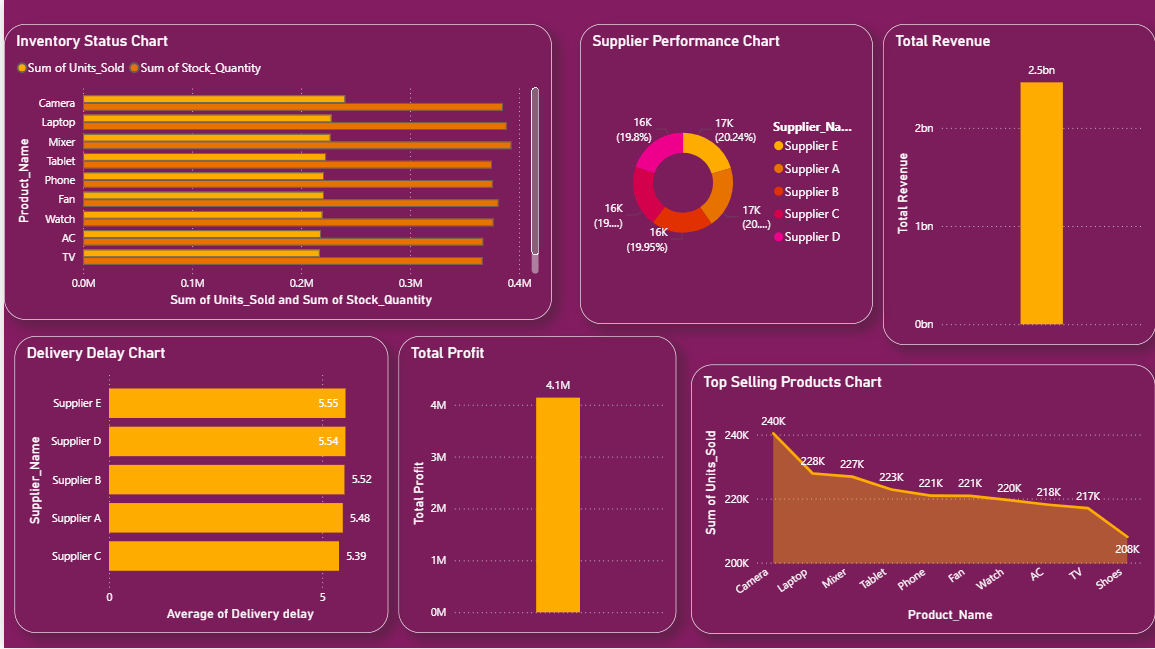

The dashboard page shown, as its layout file describes it:
{"tool":"powerbi","page":{"name":"Page 1","canvas":[1280,720],"ordinal":0},"visuals":[{"type":"clusteredColumnChart","title":"Total Revenue","fields":{"Y":["Sum(Table 6 (supply_chain_inventory_dataset_).Revenue)"]},"box":[976.5,87.7,290.5,296.3],"z":0},{"type":"columnChart","title":"Total Profit","fields":{"Y":["Sum(Table 6 (supply_chain_inventory_dataset_).Profit)"]},"box":[438.6,405.5,309.2,289.1],"z":1000},{"type":"clusteredBarChart","title":"Inventory Status Chart","fields":{"Category":["Table 6 (supply_chain_inventory_dataset_).Product_Name"],"Y":["Sum(Table 6 (supply_chain_inventory_dataset_).Units_Sold)","Sum(Table 6 (supply_chain_inventory_dataset_).Stock_Quantity)"]},"box":[12.9,50.3,608.3,327.9],"z":2000},{"type":"areaChart","title":"Top Selling Products Chart","fields":{"Category":["Table 6 (supply_chain_inventory_dataset_).Product_Name"],"Y":["Sum(Table 6 (supply_chain_inventory_dataset_).Units_Sold)"]},"box":[763.6,405.5,516.3,299.1],"z":3000},{"type":"donutChart","title":"Supplier Performance Chart","fields":{"Category":["Table 6 (supply_chain_inventory_dataset_).Supplier_Name"],"Y":["Sum(Table 6 (supply_chain_inventory_dataset_).Shipping_Time_Days)"]},"box":[640,50.3,325,333.6],"z":3001},{"type":"barChart","title":"Delivery Delay Chart","fields":{"Category":["Table 6 (supply_chain_inventory_dataset_).Supplier_Name"],"Y":["Avg(Table 6 (supply_chain_inventory_dataset_).Delivery delay)"]},"box":[0,389.7,415.6,330.8],"z":3002}]}

Visuals, with their boxes in screenshot pixels (x1, y1, x2, y2), scaled from the page's 1280x720 canvas onto the 1155x649 screenshot:
"Total Revenue" clusteredColumnChart: bbox=[881, 79, 1143, 346]
"Total Profit" columnChart: bbox=[396, 366, 675, 626]
"Inventory Status Chart" clusteredBarChart: bbox=[12, 45, 561, 341]
"Top Selling Products Chart" areaChart: bbox=[689, 366, 1154, 635]
"Supplier Performance Chart" donutChart: bbox=[578, 45, 871, 346]
"Delivery Delay Chart" barChart: bbox=[0, 351, 375, 648]
